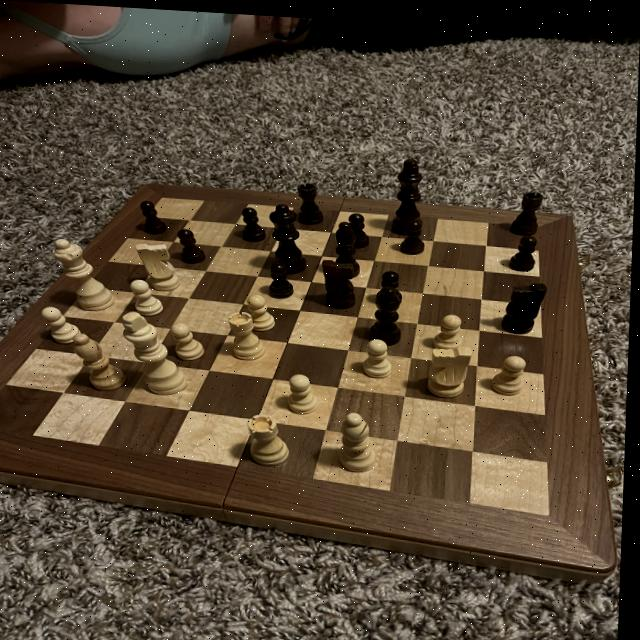bishop: (363, 278, 410, 343), (330, 213, 366, 275)
black-bishop: (382, 150, 432, 237)
black-king: (495, 272, 551, 332), (317, 254, 362, 307)
black-knight: (172, 224, 211, 267), (506, 226, 544, 269), (372, 262, 410, 304), (136, 195, 172, 238), (239, 200, 272, 245), (266, 256, 297, 298), (346, 206, 374, 246)
black-pawn: (264, 196, 318, 278)
black-queen: (508, 183, 547, 232), (293, 176, 328, 224)
black-rook: (69, 330, 131, 391), (335, 406, 386, 472)
white-bishop: (120, 308, 192, 396)
white-king: (423, 336, 477, 396), (132, 236, 185, 293)
white-knight: (36, 303, 88, 350), (490, 345, 531, 392), (170, 317, 211, 360), (288, 368, 325, 412), (363, 332, 398, 378), (430, 305, 467, 348), (131, 275, 169, 316), (243, 289, 281, 329)
white-pawn: (47, 235, 120, 313)
white-queen: (245, 409, 298, 465), (225, 306, 274, 361)
